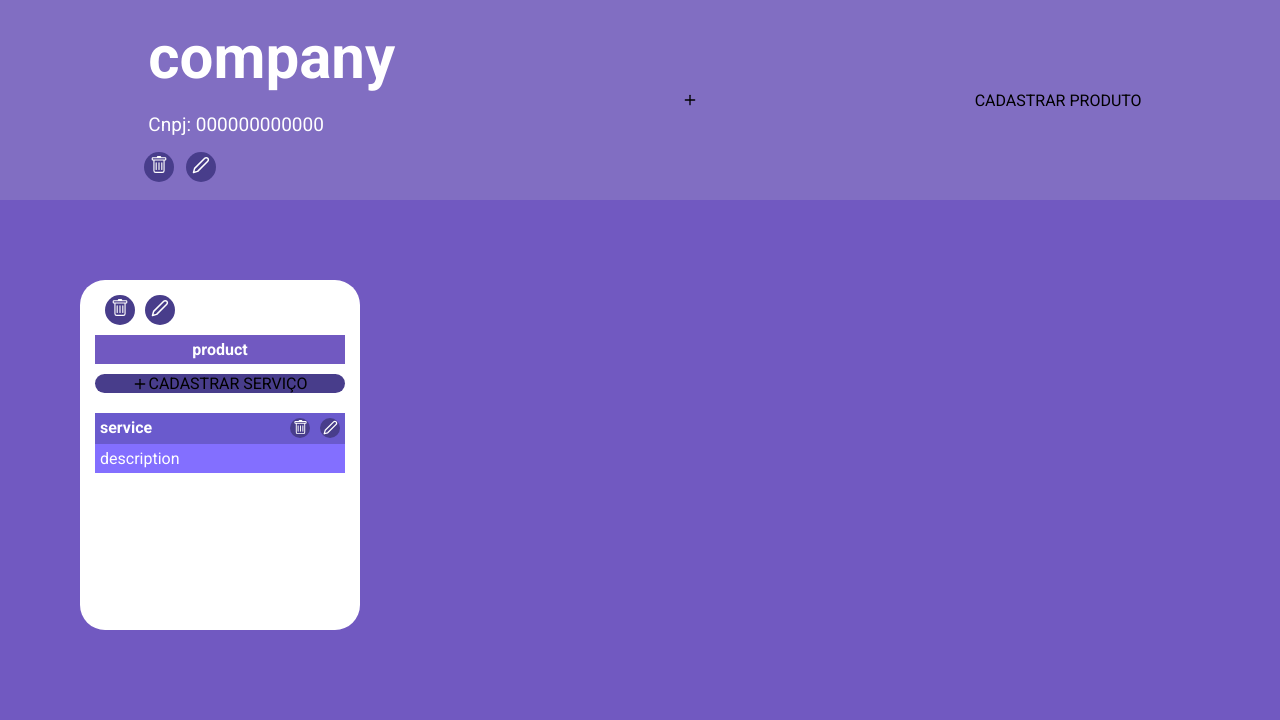
Scenario: Dashboard › serviceDelete › should be able to open serviceDelele modal
This screenshot has width=1280, height=720.
Step 1. Click the 5th button → point(300, 428), box [290,418,310,438]
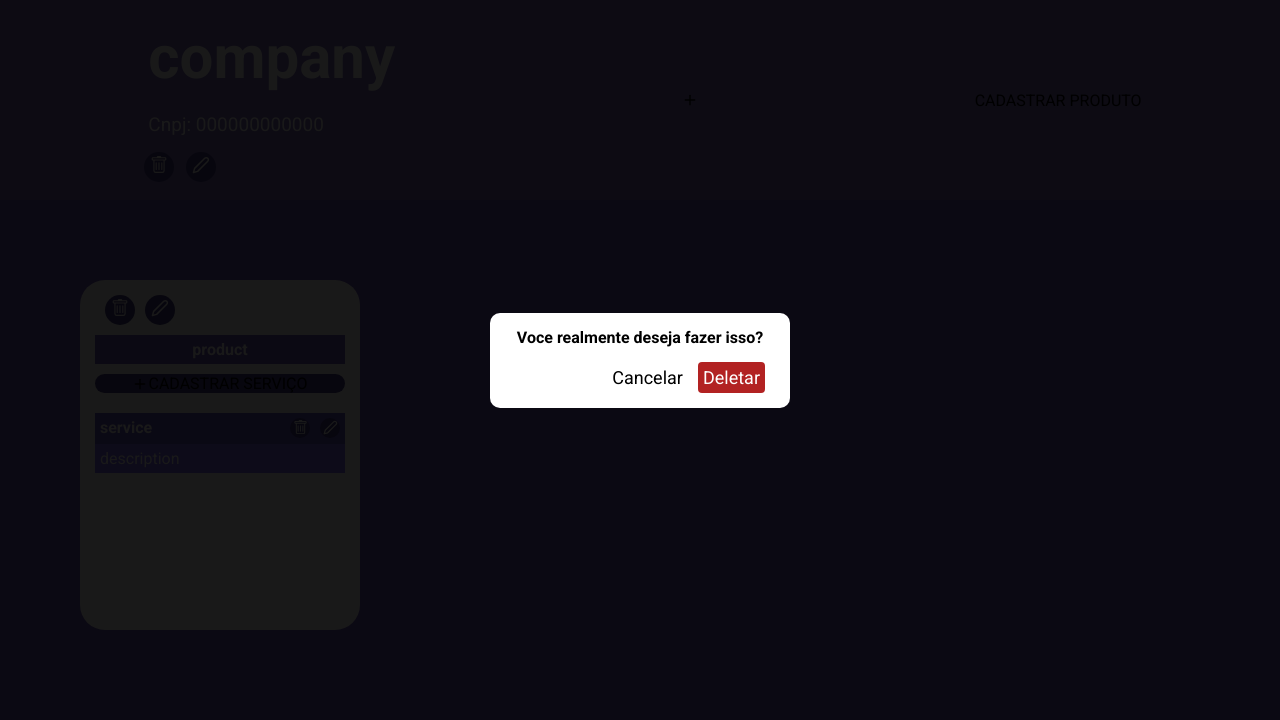
Expected: the dialog is shown
